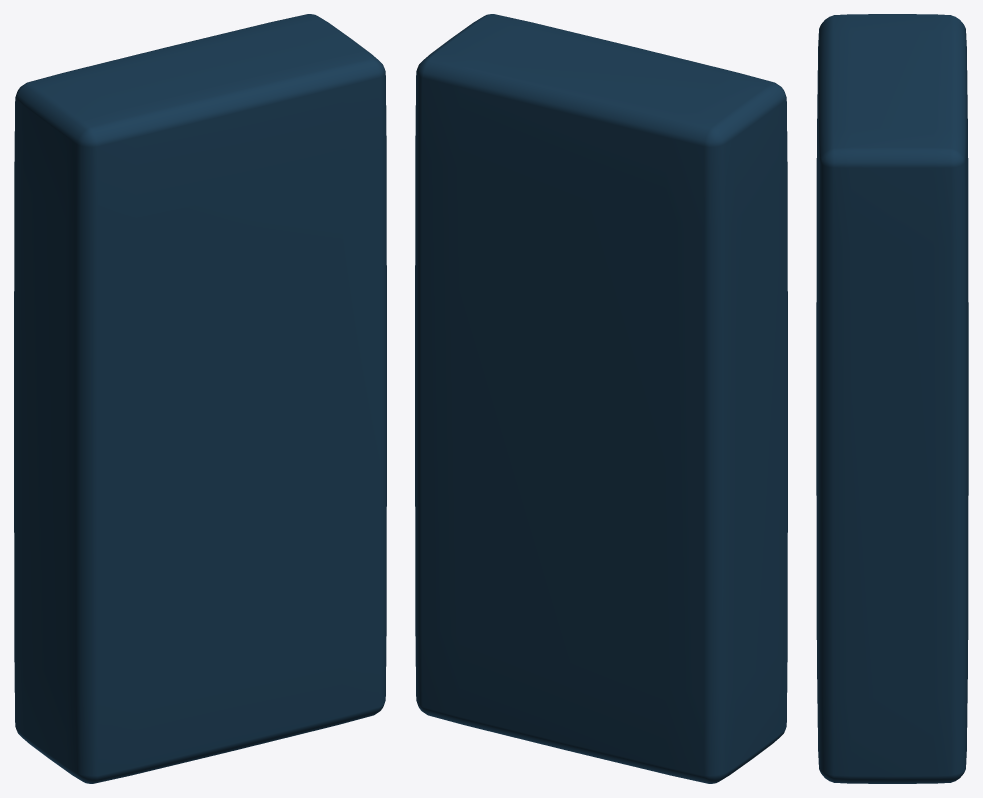
3 renders of one model, left to right at view 1: azimuth 30°, elevation 25°; view 2: azimuth 150°, elevation 25°; view 3: azimuth 270°, elevation 25°, orthographic. The views are drawn at different scales.
Visible parts, largest first — view 1: Box4_High; view 2: Box4_High; view 3: Box4_High.
Part boxes in pixels (box(x1,y1,x2,y2)): Box4_High: box(14, 14, 386, 783); Box4_High: box(415, 14, 787, 783); Box4_High: box(816, 14, 968, 783).
Bounding box in the file's own units: 1 × 2.02 × 0.4364.
